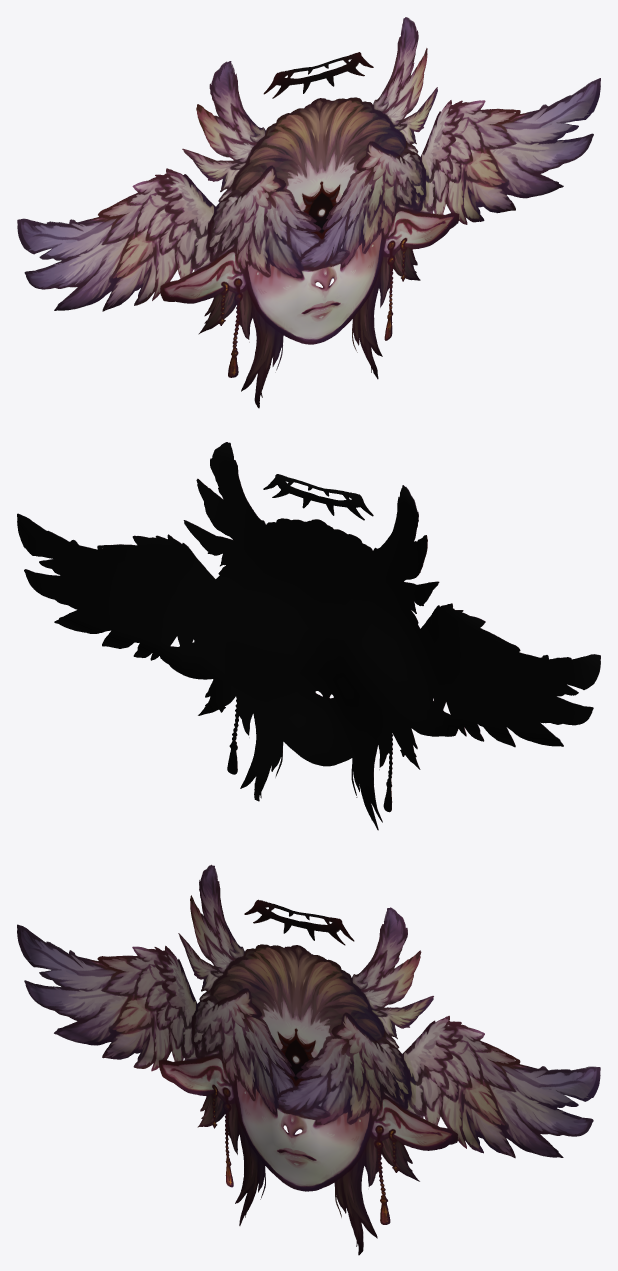
The model's file is Mask5.fbx.
3 renders of one model, top to bottom at view 1: azimuth 30°, elevation 25°; view 2: azimuth 150°, elevation 25°; view 3: azimuth 330°, elevation 25°, orthographic.
Parts seen in each view (by area): view 1: Mask5; view 2: Mask5; view 3: Mask5.
Boxes of the visible parts, x1,y1,x2,y2 form: Mask5: (17,17,600,408); Mask5: (17,442,600,830); Mask5: (17,864,600,1255).
Size of the model in its own units: 5.08 by 2.95 by 0.2728.
Materials: 2 (1 with a texture image).
